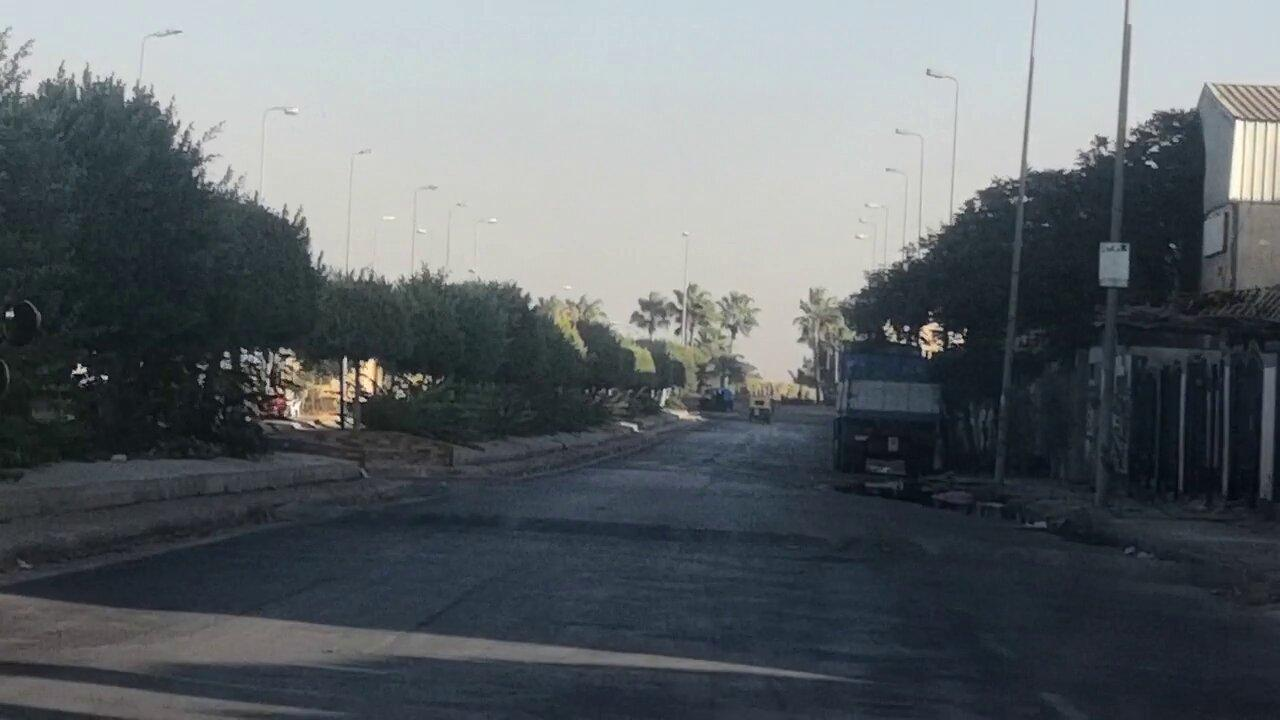Bump: (296, 499, 1219, 587)
